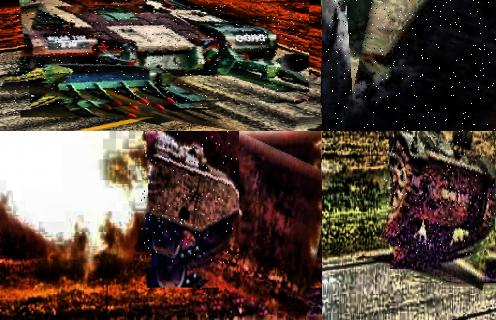tanks: (12, 1, 310, 106), (344, 1, 496, 132), (385, 132, 496, 256), (142, 132, 240, 264), (216, 132, 323, 184), (203, 132, 216, 136)
